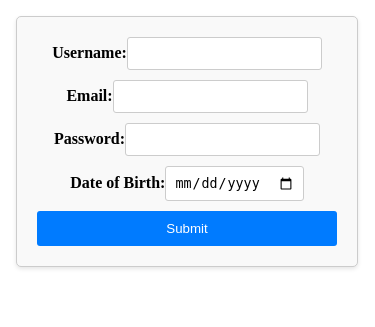
Registration form validation › should display validation errors for short password
Type "user" into the field named "username" next to "Username:" at (225, 54), box [127,37,322,70]
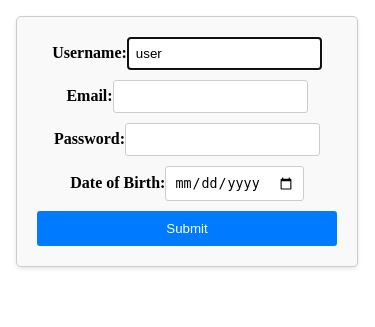
Type "user@gmail.com" into the field named "email" next to "Email:" at (211, 97), box [113,80,308,113]
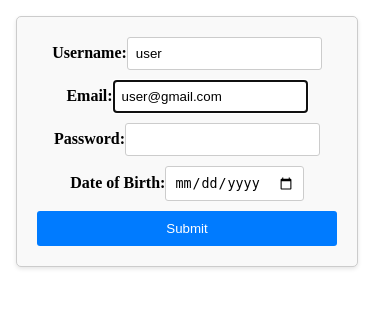
Type "321" into the password field named "password" at (223, 140), box [125,123,320,156]
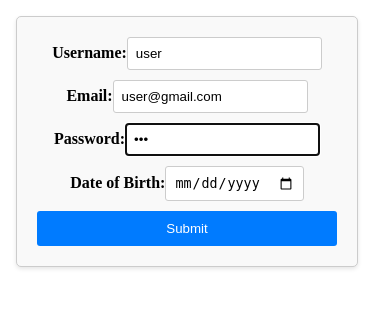
Type "2001-01-01" into the date field named "dob" at (234, 184), box [165,166,303,201]
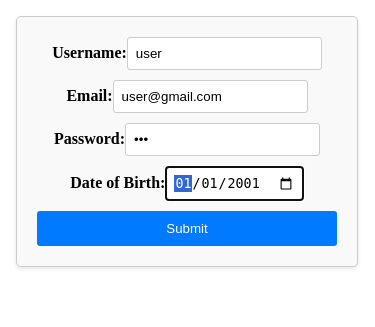
Click the button with test id "submit" at (187, 229), box [37,211,337,246]
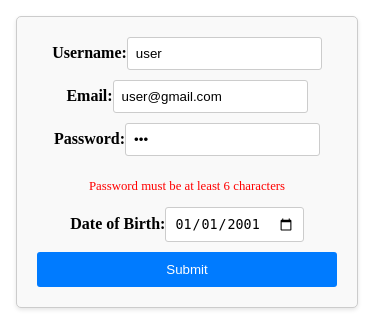
expect the text with class "error" reads "Password must be at least 6 characters": met, box [89,179,285,193]
